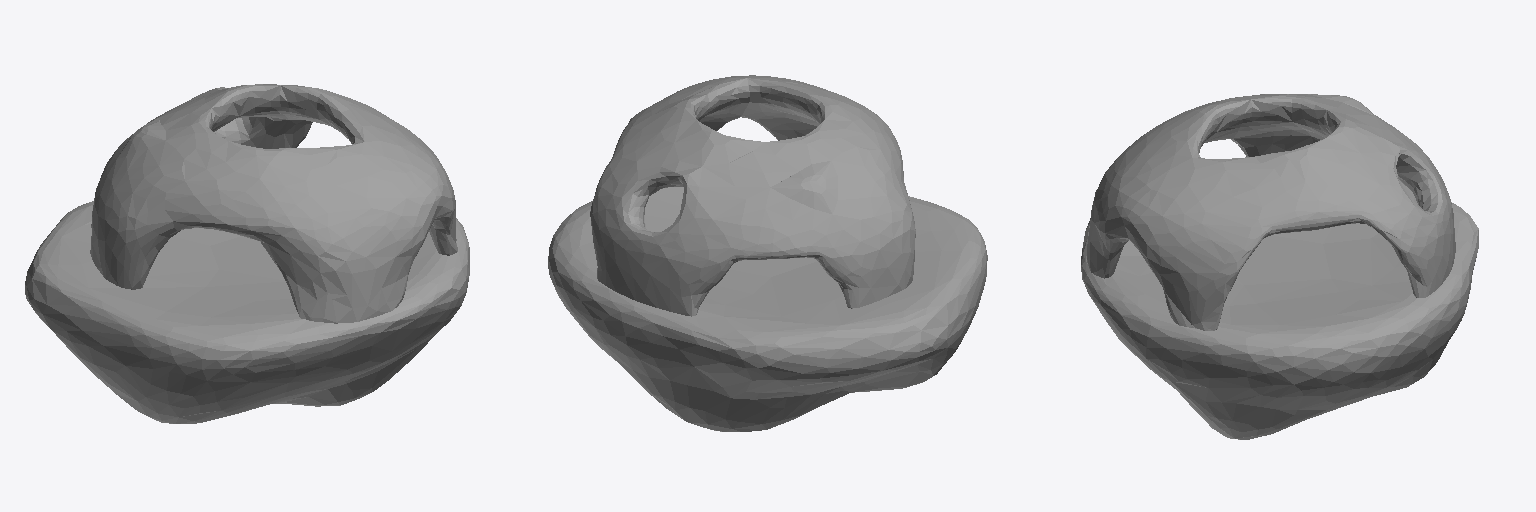
File: island5Med.obj
The picture shows the model from 3 angles: view 1: azimuth 30°, elevation 25°; view 2: azimuth 150°, elevation 25°; view 3: azimuth 270°, elevation 25°; orthographic projection.
Parts seen in each view (by area): view 1: F3:GeoDome1_copy3_F3:GeoDome1_copy3_auv, F3:GeoDome1_F3:GeoDome1_auv; view 2: F3:GeoDome1_copy3_F3:GeoDome1_copy3_auv, F3:GeoDome1_F3:GeoDome1_auv; view 3: F3:GeoDome1_copy3_F3:GeoDome1_copy3_auv, F3:GeoDome1_F3:GeoDome1_auv.
Part boxes in pixels (left/top/right/bottom): F3:GeoDome1_copy3_F3:GeoDome1_copy3_auv: left=90, top=84, right=457, bottom=323; F3:GeoDome1_F3:GeoDome1_auv: left=25, top=201, right=469, bottom=423; F3:GeoDome1_copy3_F3:GeoDome1_copy3_auv: left=590, top=75, right=915, bottom=316; F3:GeoDome1_F3:GeoDome1_auv: left=548, top=187, right=987, bottom=431; F3:GeoDome1_copy3_F3:GeoDome1_copy3_auv: left=1087, top=94, right=1455, bottom=330; F3:GeoDome1_F3:GeoDome1_auv: left=1081, top=179, right=1478, bottom=439.
Bounding box in the file's own units: 2.3 × 1.59 × 2.03.